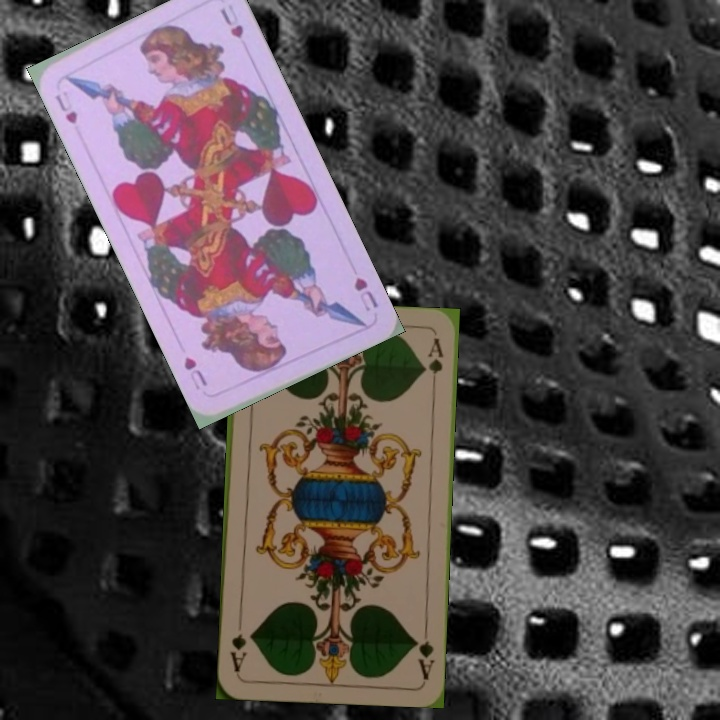GA: (411, 622, 437, 681)
HU: (350, 273, 381, 315), (50, 86, 81, 127)
